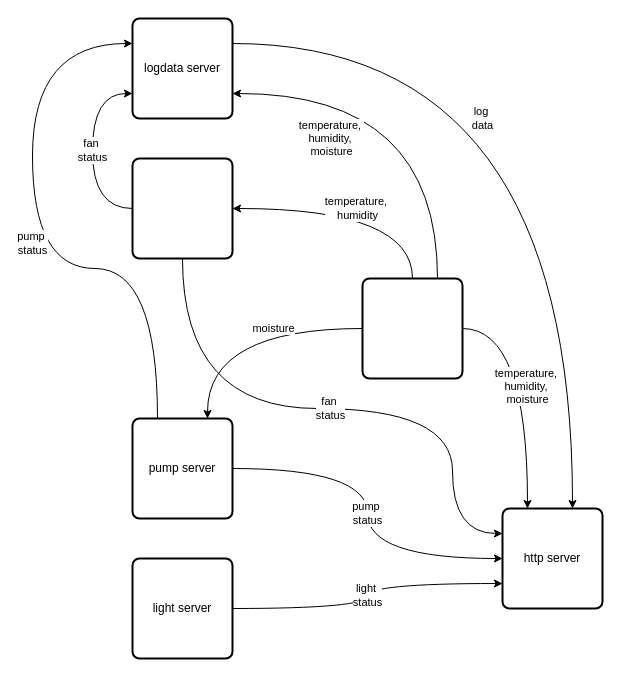
The diagram is 621 pixels wide and 676 high, and some of its shapes have lost their labels. The box of each missing label's shape, as (x1, y1, x2, y2) in pixels:
fan server: (131, 157, 233, 259)
sensor server: (361, 277, 463, 379)
